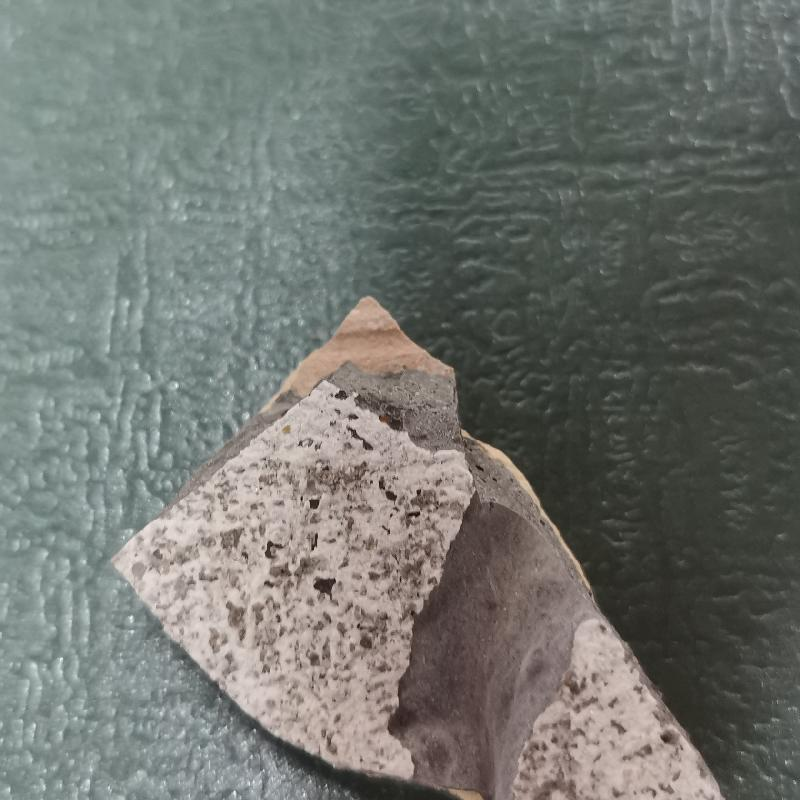tile: (111, 295, 727, 800)
